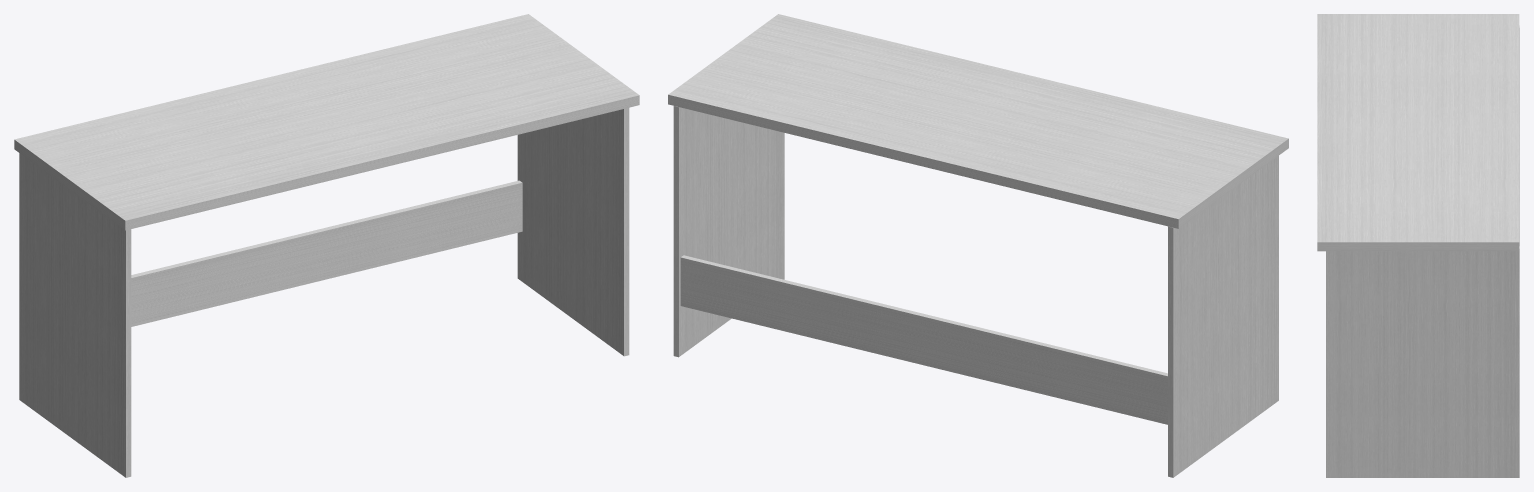
The model's file is Table 1.FBX.
3 views of the same model, side by side, from view 1: azimuth 30°, elevation 25°; view 2: azimuth 150°, elevation 25°; view 3: azimuth 270°, elevation 25° (orthographic). The views are drawn at different scales.
Parts seen in each view (by area): view 1: Table; view 2: Table; view 3: Table.
Part boxes in pixels (box(x1,y1,x2,y2)): Table: box(14, 14, 639, 477); Table: box(668, 14, 1288, 477); Table: box(1317, 14, 1519, 477).
Size of the model in its own units: 163 by 79.21 by 60.95.
1 material, 1 textured.
